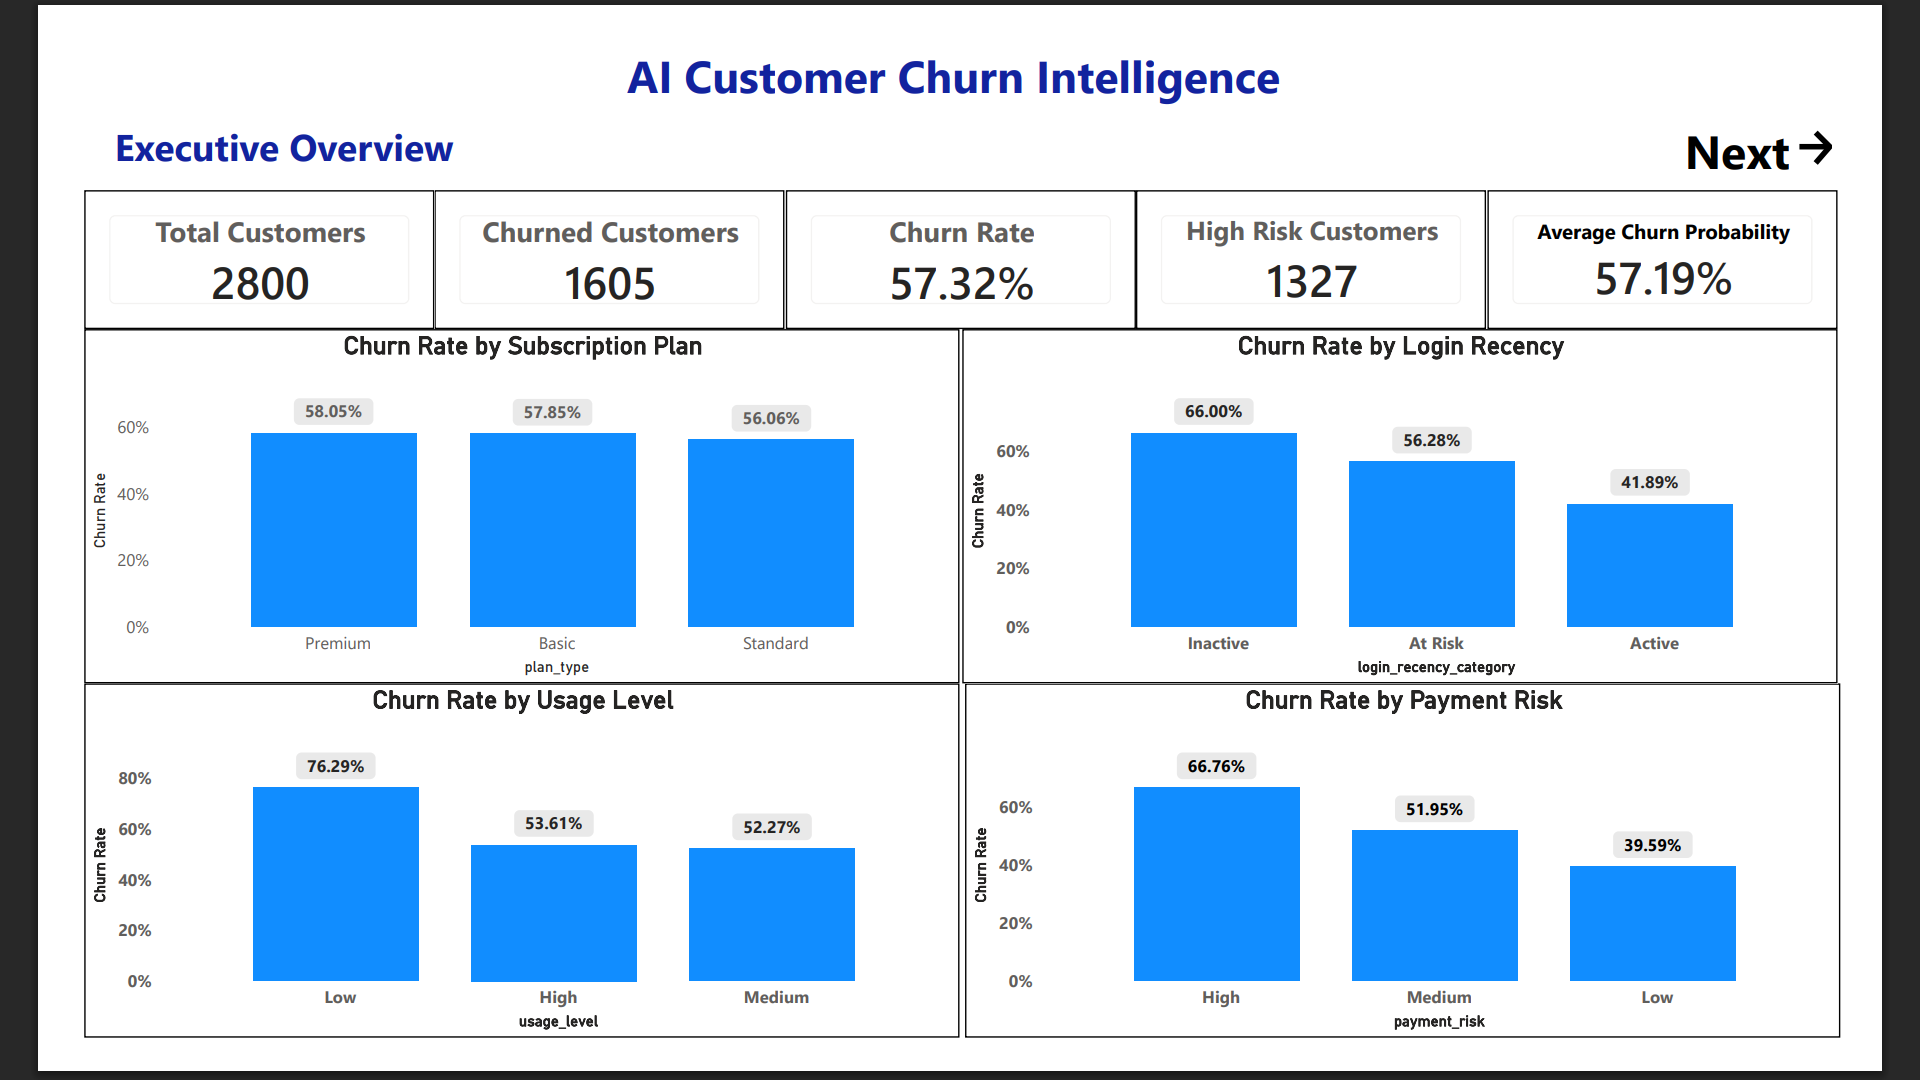

What the dashboard file says about the page in this screenshot:
{"tool":"powerbi","page":{"name":"Executive Overview","canvas":[1280,720],"ordinal":0},"visuals":[{"type":"textbox","box":[253.9,0,760,55],"z":0},{"type":"textbox","box":[19.2,54.9,270,55],"z":1000},{"type":"cardVisual","fields":{"Data":["Customer Churn.Churned Customers"]},"box":[262.1,109.8,252,100],"z":2000},{"type":"cardVisual","fields":{"Data":["Customer Churn.Average Churn Probability"]},"box":[1019.6,109.8,252,100],"z":3000},{"type":"cardVisual","fields":{"Data":["Customer Churn.Total Customers"]},"box":[9.6,109.8,252,100],"z":4000},{"type":"cardVisual","fields":{"Data":["Customer Churn.High Risk Customers"]},"box":[767.1,109.8,252,100],"z":5000},{"type":"cardVisual","fields":{"Data":["Customer Churn.Churn Rate"]},"box":[514.6,109.8,252,100],"z":6000},{"type":"clusteredColumnChart","title":"Churn Rate by Subscription Plan","fields":{"Y":["Customer Churn.Churn Rate"],"Category":["Customer Churn.plan_type"]},"box":[9.6,209.9,630,255],"z":7000},{"type":"clusteredColumnChart","title":"Churn Rate by Usage Level","fields":{"Y":["Customer Churn.Churn Rate"],"Category":["Customer Churn.usage_level"]},"box":[9.6,465.2,630,255],"z":8000},{"type":"clusteredColumnChart","title":"Churn Rate by Payment Risk","fields":{"Y":["Customer Churn.Churn Rate"],"Category":["Customer Churn.payment_risk"]},"box":[643.6,465.2,630,255],"z":9000},{"type":"clusteredColumnChart","title":"Churn Rate by Login Recency","fields":{"Y":["Customer Churn.Churn Rate"],"Category":["Customer Churn.login_recency_category"]},"box":[642.2,209.9,630,255],"z":10000},{"type":"actionButton","box":[1158.2,54.9,113.9,49.4],"z":11000}]}

Visuals, with their boxes in screenshot pixels (x1, y1, x2, y2), scaled from the page's 1280x720 canvas onto the 1920x1080 screenshot:
textbox: left=381, top=0, right=1521, bottom=82
textbox: left=29, top=82, right=434, bottom=165
cardVisual - Customer Churn.Churned Customers: left=393, top=165, right=771, bottom=315
cardVisual - Customer Churn.Average Churn Probability: left=1529, top=165, right=1907, bottom=315
cardVisual - Customer Churn.Total Customers: left=14, top=165, right=392, bottom=315
cardVisual - Customer Churn.High Risk Customers: left=1151, top=165, right=1529, bottom=315
cardVisual - Customer Churn.Churn Rate: left=772, top=165, right=1150, bottom=315
"Churn Rate by Subscription Plan" clusteredColumnChart: left=14, top=315, right=959, bottom=697
"Churn Rate by Usage Level" clusteredColumnChart: left=14, top=698, right=959, bottom=1079
"Churn Rate by Payment Risk" clusteredColumnChart: left=965, top=698, right=1910, bottom=1079
"Churn Rate by Login Recency" clusteredColumnChart: left=963, top=315, right=1908, bottom=697
actionButton: left=1737, top=82, right=1908, bottom=156
